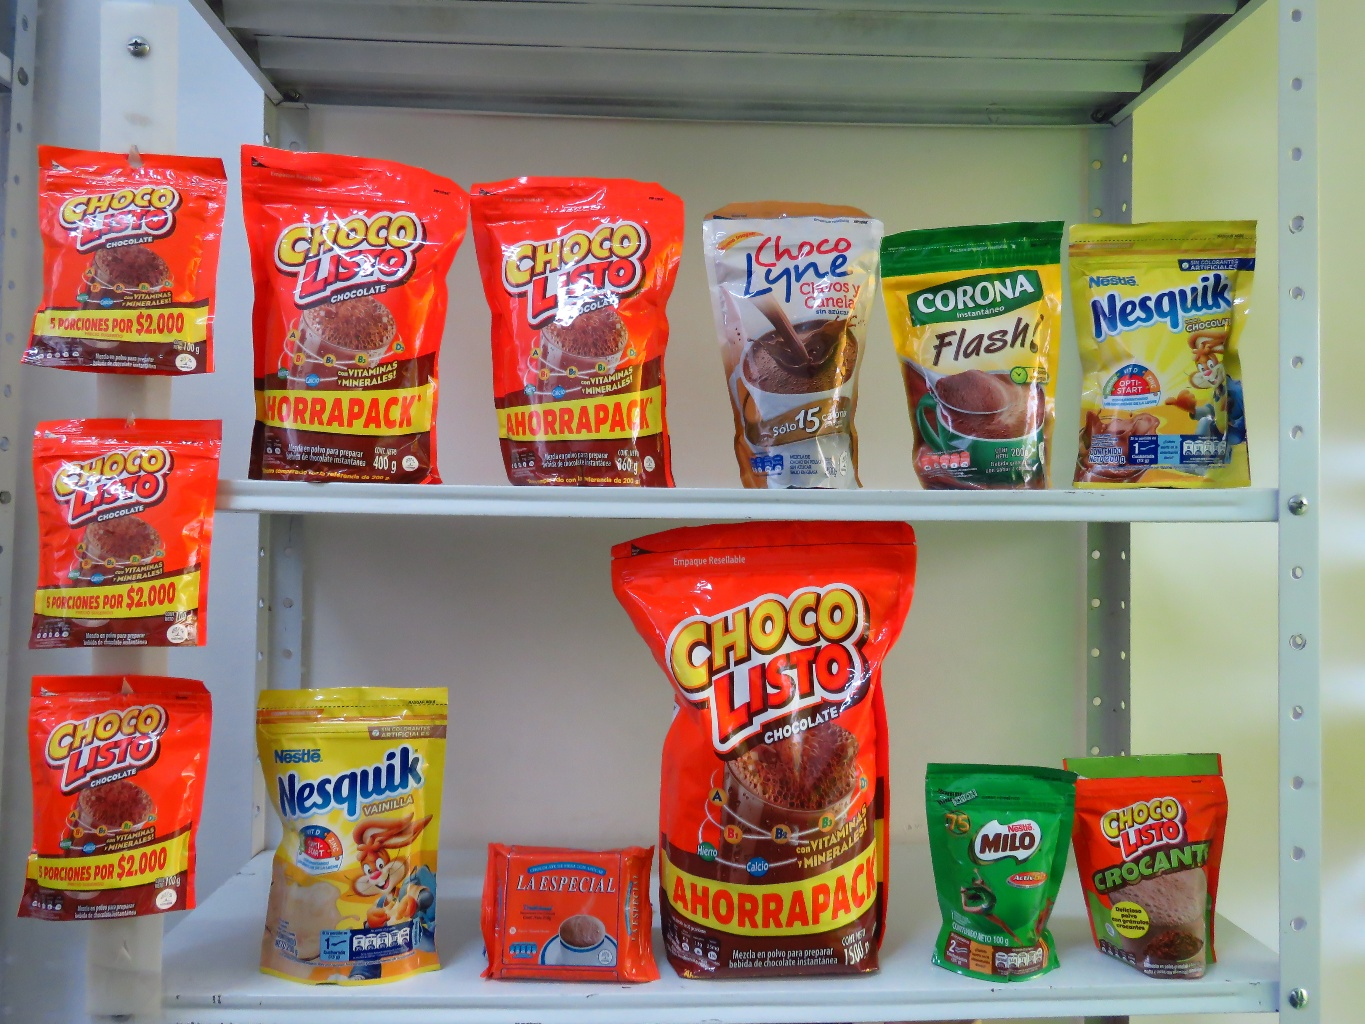COL0170102DYP10000: (1068, 748, 1245, 987)
COL0170103DYP1,500: (611, 523, 915, 975)
COL0170103DYP10000: (17, 658, 221, 918)
COL0170103DYP36000: (468, 168, 693, 495)
COL0170103DYP40000: (240, 138, 442, 466)
COL0170203DYP10000: (919, 756, 1064, 970)
COL0170303DYP20000: (1068, 215, 1266, 489)
COL0170306DYP20000: (242, 685, 452, 987)
